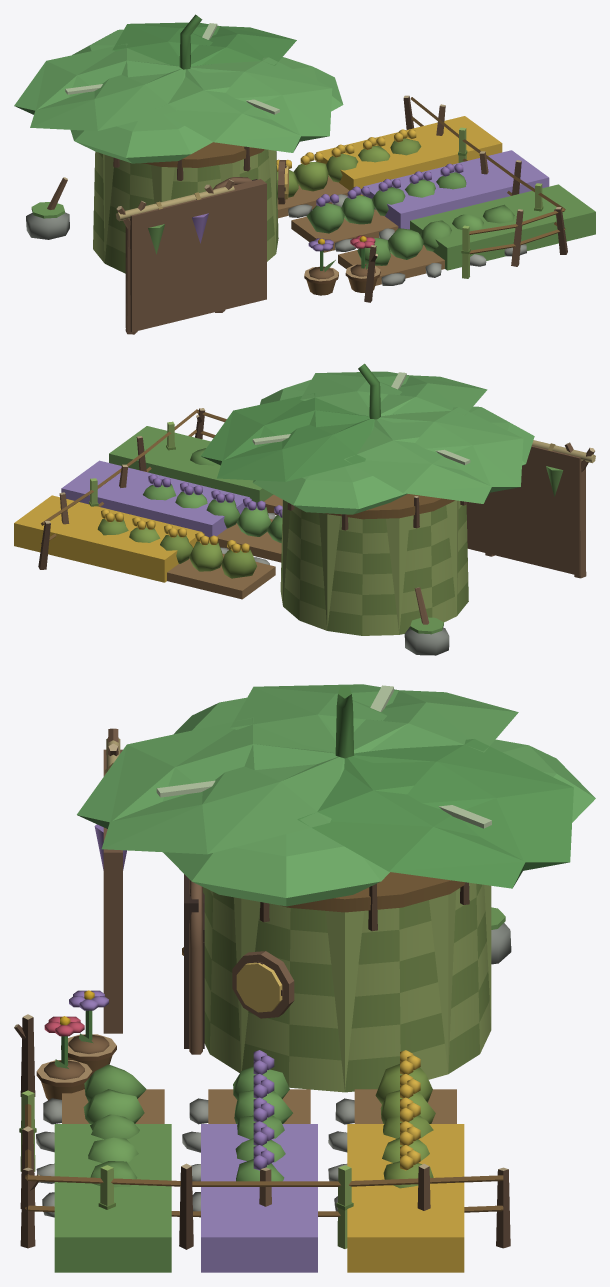
File: herbalist.glb
The picture shows the model from 3 angles, top to bottom: view 1: azimuth 30°, elevation 25°; view 2: azimuth 150°, elevation 25°; view 3: azimuth 270°, elevation 25°; orthographic projection. The views are drawn at different scales.
Parts seen in each view (by area): view 1: body__far, body_nl, body, body_nh; view 2: body__far, body_nl, body, body_nh; view 3: body_nl, body__far, body, body_nh.
Part boxes in pixels (left/top/right/bottom): body__far: left=70, top=29, right=595, bottom=332; body_nl: left=14, top=22, right=514, bottom=265; body: left=26, top=14, right=567, bottom=334; body_nh: left=65, top=23, right=565, bottom=271; body__far: left=14, top=379, right=585, bottom=633; body_nl: left=97, top=371, right=523, bottom=578; body: left=38, top=363, right=595, bottom=655; body_nh: left=41, top=372, right=470, bottom=543; body_nl: left=44, top=684, right=573, bottom=1188; body__far: left=54, top=697, right=595, bottom=1272; body: left=14, top=686, right=511, bottom=1249; body_nh: left=25, top=685, right=503, bottom=1216.
Bounding box in the file's own units: 3.46 × 1.62 × 2.39.
